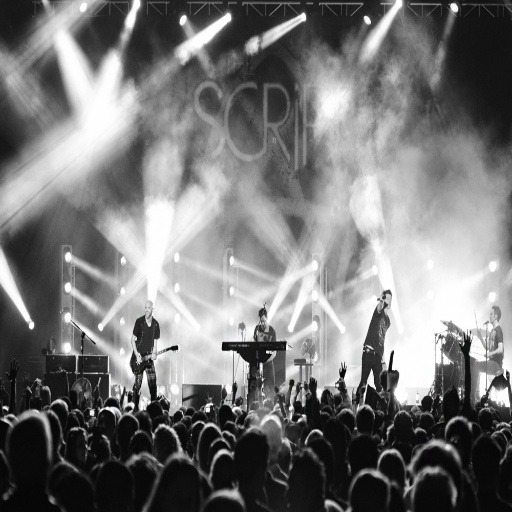hand: (135, 350, 142, 365)
